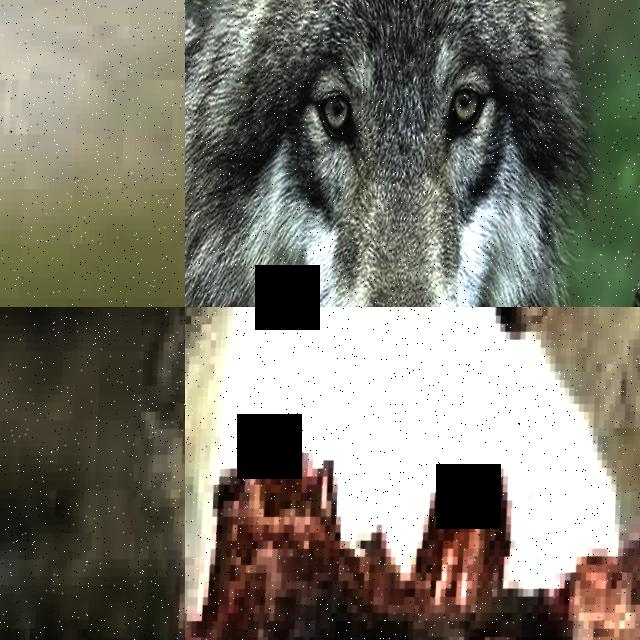dog: (0, 0, 185, 307)
wolf: (185, 0, 621, 307), (426, 307, 640, 640), (0, 307, 185, 640), (185, 307, 296, 640)
